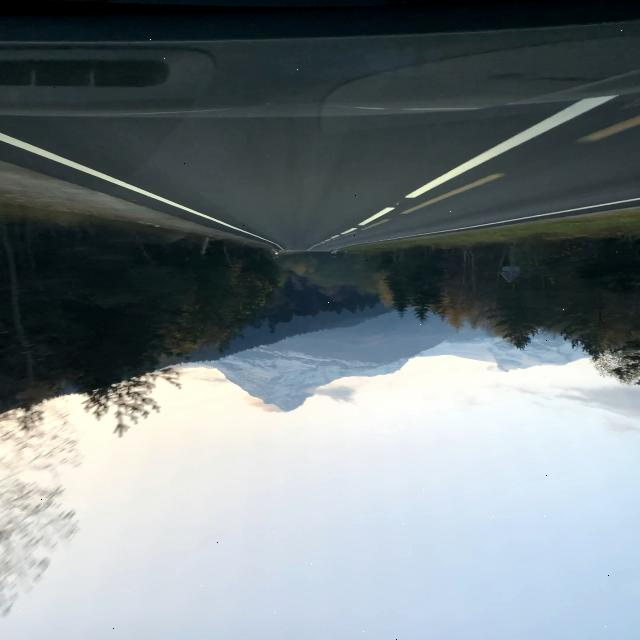lane: (1, 135, 281, 248), (407, 96, 616, 198)
road: (2, 3, 639, 249)
